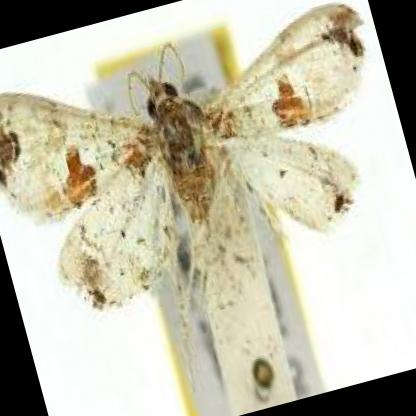leucinodes: (0, 6, 363, 310)
